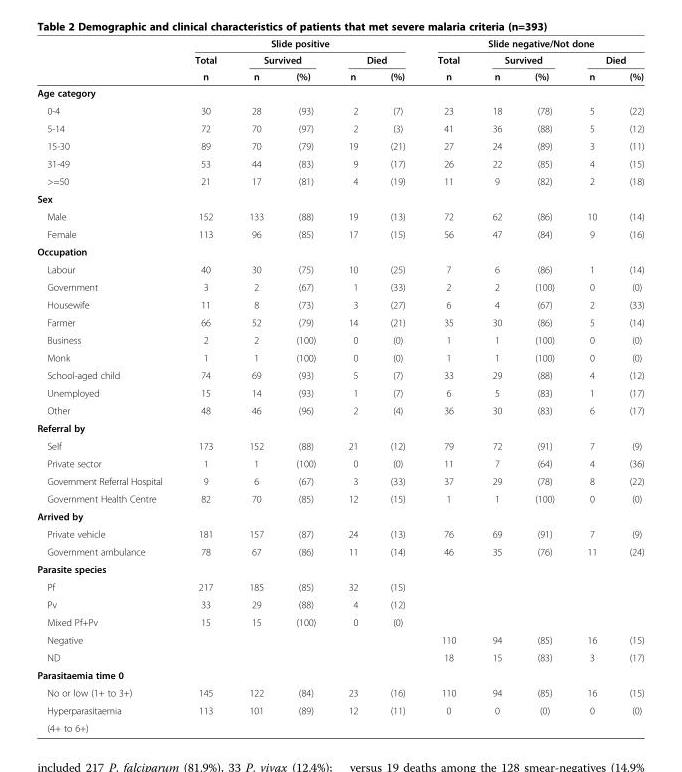table: (36, 37, 643, 733)
table column: (36, 37, 177, 733), (177, 37, 232, 733), (420, 37, 475, 733), (517, 37, 570, 733), (279, 37, 331, 733), (232, 37, 279, 733), (373, 37, 420, 733), (331, 37, 373, 733), (475, 37, 517, 733), (570, 37, 612, 733), (612, 37, 643, 733)
table column header: (36, 37, 643, 84)
table projected row header: (36, 189, 643, 207), (36, 242, 643, 260), (36, 418, 643, 436), (36, 665, 643, 683), (36, 84, 643, 101), (36, 507, 643, 524), (36, 560, 643, 577)
table row: (36, 101, 643, 119), (36, 136, 643, 154), (36, 154, 643, 172), (36, 189, 643, 207), (36, 207, 643, 225), (36, 242, 643, 260), (36, 277, 643, 295), (36, 295, 643, 313), (36, 330, 643, 348), (36, 348, 643, 366), (36, 383, 643, 401), (36, 418, 643, 436), (36, 436, 643, 454), (36, 454, 643, 472), (36, 489, 643, 507), (36, 524, 643, 542), (36, 542, 643, 560), (36, 577, 643, 595), (36, 595, 643, 613), (36, 630, 643, 648), (36, 665, 643, 683), (36, 683, 643, 701), (36, 67, 643, 84), (36, 84, 643, 101), (36, 119, 643, 136), (36, 172, 643, 189), (36, 225, 643, 242), (36, 260, 643, 277), (36, 313, 643, 330), (36, 366, 643, 383), (36, 401, 643, 418), (36, 472, 643, 489), (36, 507, 643, 524), (36, 560, 643, 577), (36, 613, 643, 630), (36, 648, 643, 665), (36, 701, 643, 718), (36, 51, 643, 67), (36, 718, 643, 733), (36, 37, 643, 51)
table spanning cell: (177, 37, 420, 51), (420, 37, 643, 51), (177, 51, 232, 84), (420, 51, 475, 84), (232, 51, 331, 67), (475, 51, 570, 67), (331, 51, 420, 67), (570, 51, 643, 67)
